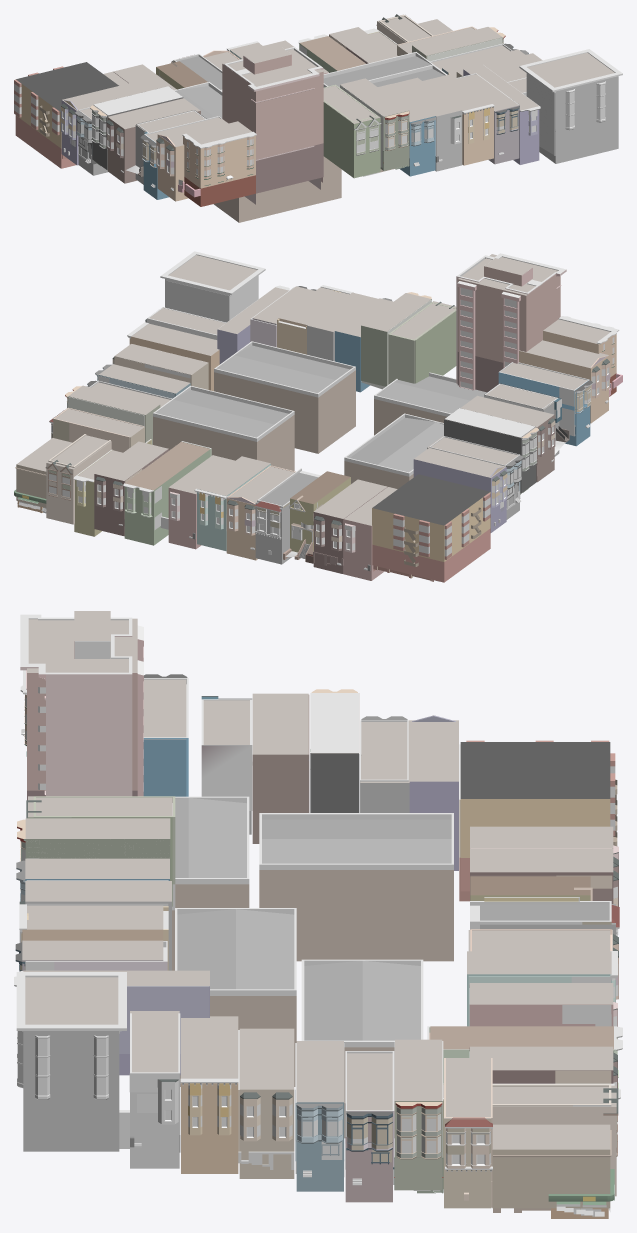
The model's file is city_west12.dae.
The picture shows the model from 3 angles, top to bottom: view 1: azimuth 30°, elevation 25°; view 2: azimuth 150°, elevation 25°; view 3: azimuth 270°, elevation 25°; orthographic projection. The views are drawn at different scales.
Parts seen in each view (by area): view 1: city_west12_a2000, city_west12_a3000; view 2: city_west12_a2000, city_west12_a3000; view 3: city_west12_a2000, city_west12_a3000.
Part boxes in pixels (bbox=[...]): city_west12_a2000: bbox=[15, 14, 618, 206]; city_west12_a3000: bbox=[14, 14, 622, 222]; city_west12_a2000: bbox=[16, 254, 616, 582]; city_west12_a3000: bbox=[14, 251, 622, 581]; city_west12_a2000: bbox=[22, 611, 616, 1208]; city_west12_a3000: bbox=[14, 614, 622, 1218].
Size of the model in its own units: 135 by 100 by 62.94.
